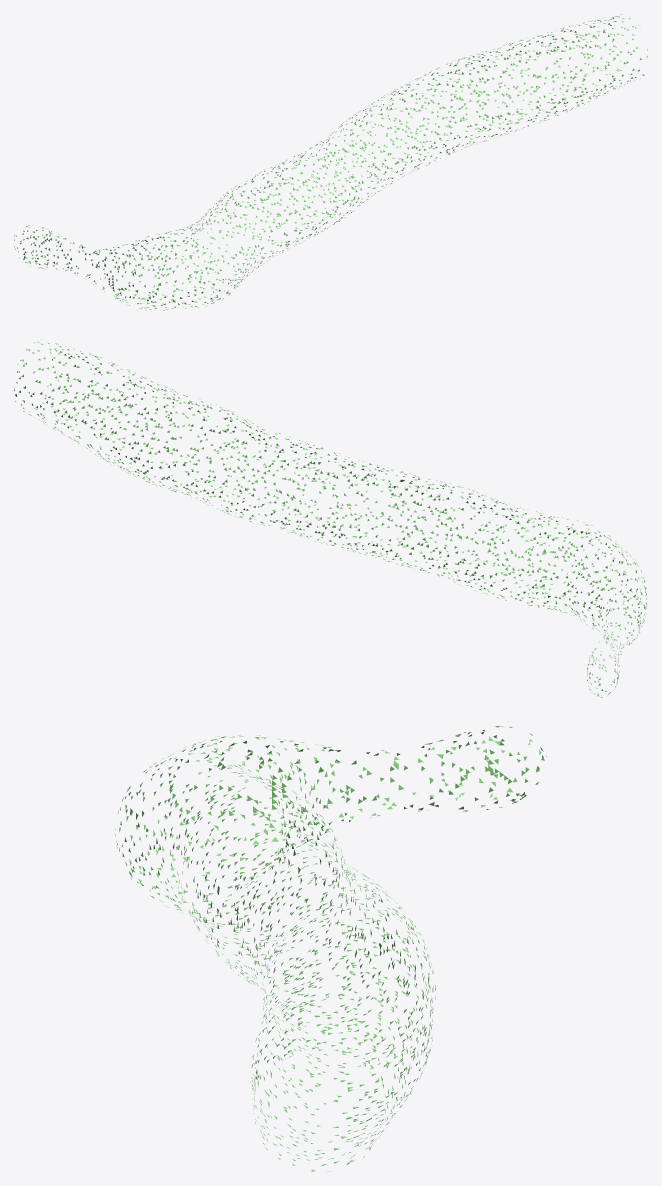
Rendered from morph_016.glb.
3 views of the same model, one above another, from view 1: azimuth 30°, elevation 25°; view 2: azimuth 150°, elevation 25°; view 3: azimuth 270°, elevation 25° (orthographic). The views are drawn at different scales.
Bounding box in the file's own units: 156 × 40.33 × 51.35.
